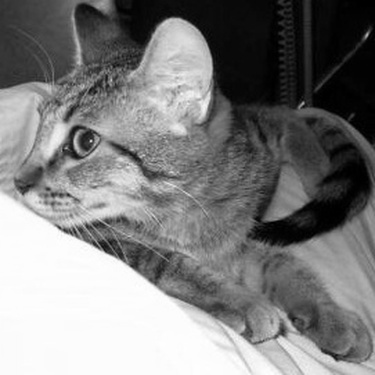cat: (14, 1, 372, 361)
